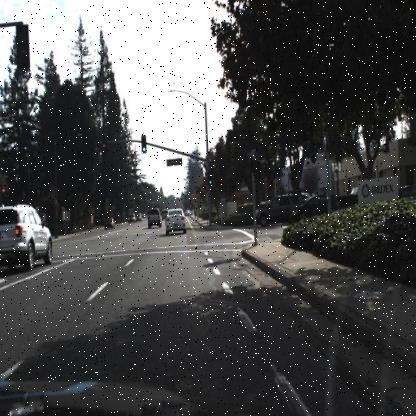car: (0, 205, 52, 269), (254, 190, 311, 228), (286, 191, 340, 227), (254, 190, 302, 228), (292, 193, 342, 228), (164, 208, 186, 236), (147, 205, 161, 226), (104, 216, 115, 232), (159, 206, 170, 221), (348, 183, 360, 196), (104, 218, 115, 230), (127, 214, 136, 223), (134, 212, 141, 220)
trafficLight-Green: (141, 134, 147, 152), (208, 174, 214, 188), (142, 138, 146, 154), (208, 172, 212, 186)
trafficLight-RedLeft: (102, 139, 108, 155), (102, 140, 107, 153)
